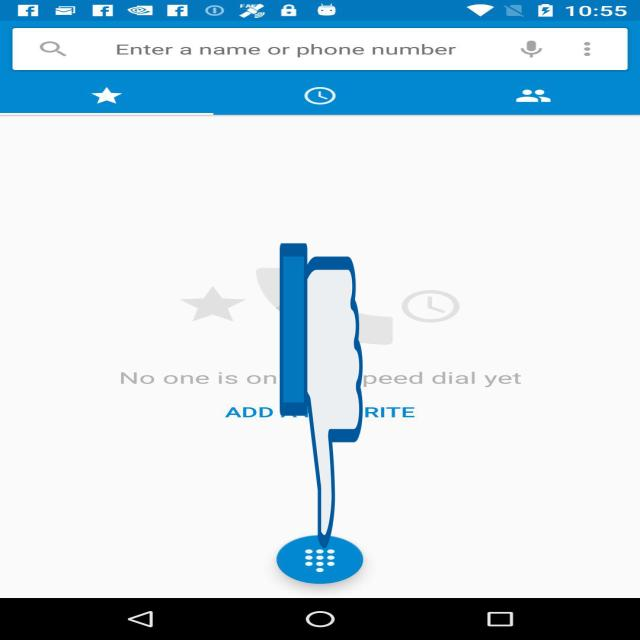obstruction: (280, 237, 362, 555)
